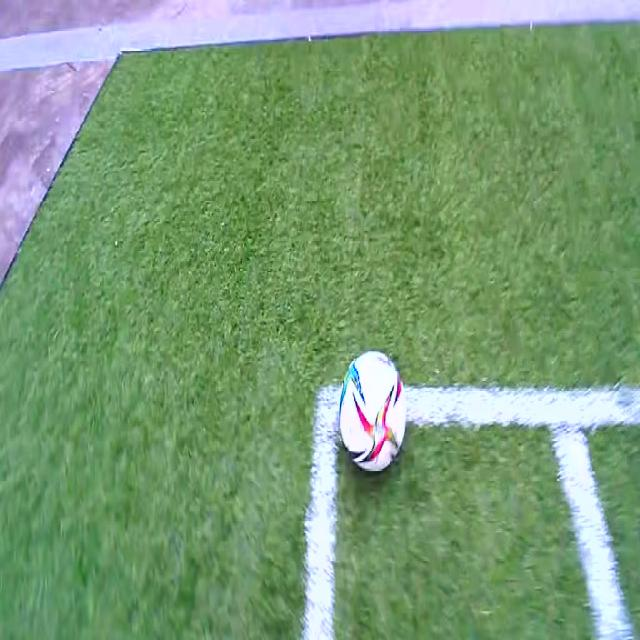ball: (339, 353, 406, 469)
